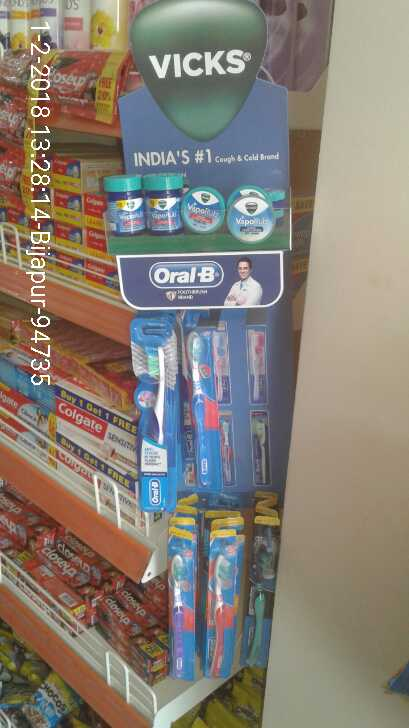pharmacy: (131, 312, 184, 513), (181, 320, 230, 495), (94, 170, 183, 241), (159, 525, 200, 678), (206, 518, 238, 687), (245, 516, 274, 668), (223, 182, 280, 246), (180, 183, 224, 239)
